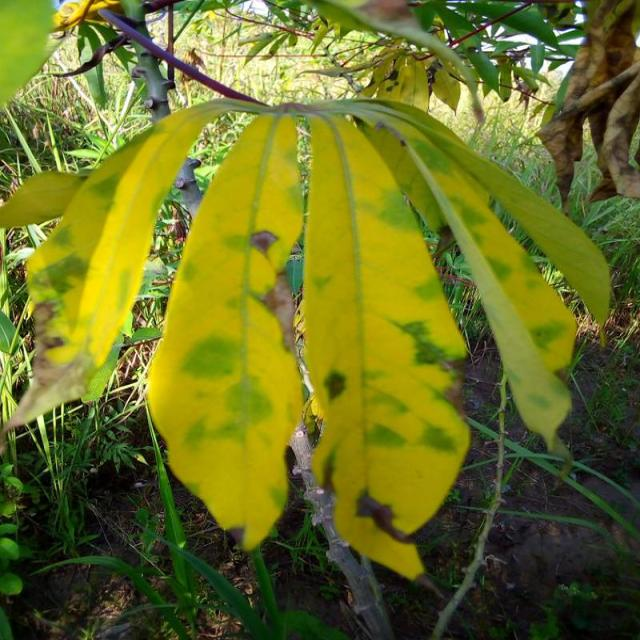cassava leaf: (2, 91, 612, 579), (1, 96, 269, 442), (301, 108, 471, 581), (144, 110, 306, 551)
